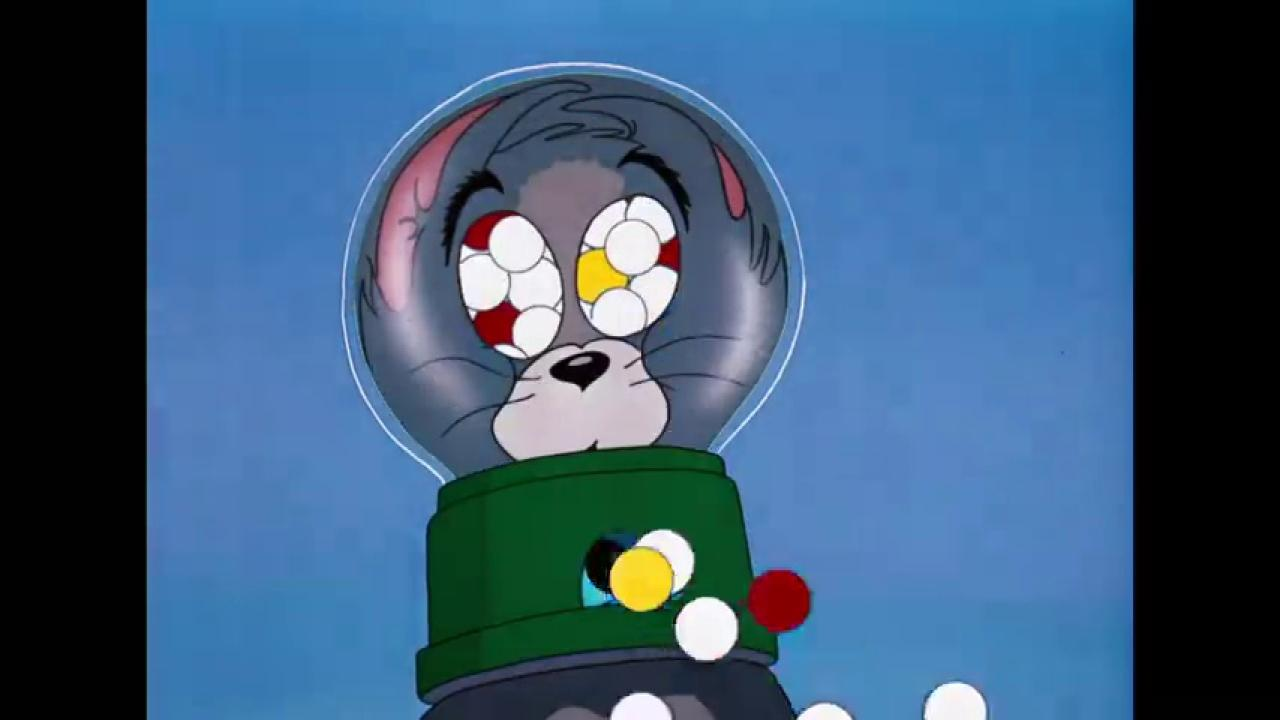Tom: (334, 63, 807, 720)
